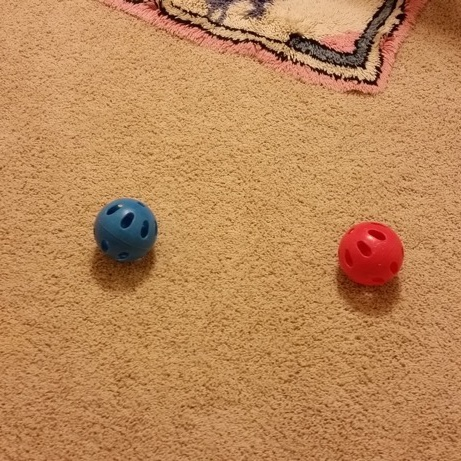ball: (334, 218, 408, 291), (90, 194, 161, 266)
